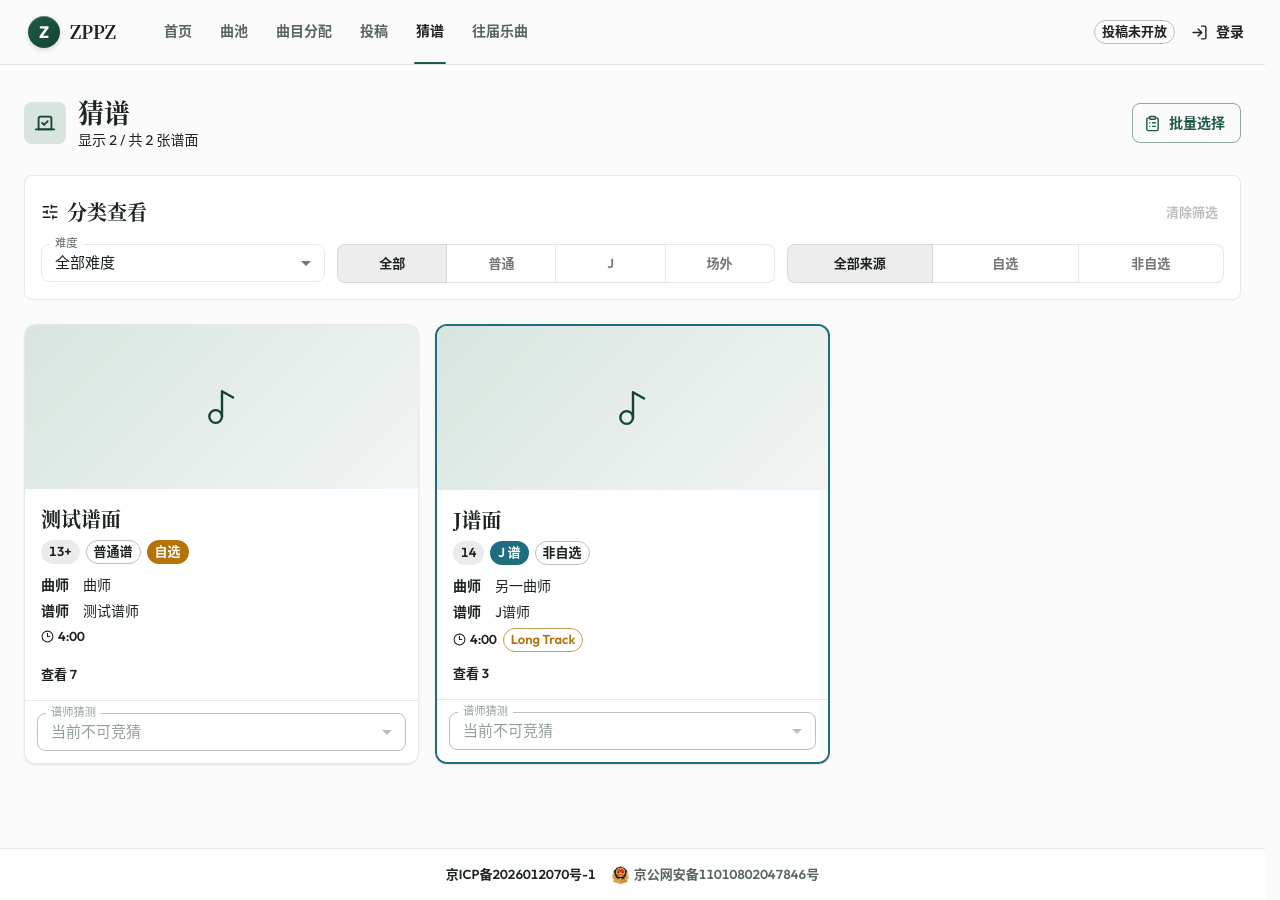
Material application shell › filters guess charts and safely renders public chart metadata
Expected: the heading "测试谱面" is shown, [41,504,121,533]
Expected: the heading "J谱面" is shown, [453,505,502,534]
Click the button "J".
click(611, 263)  # box [556,244,666,283]
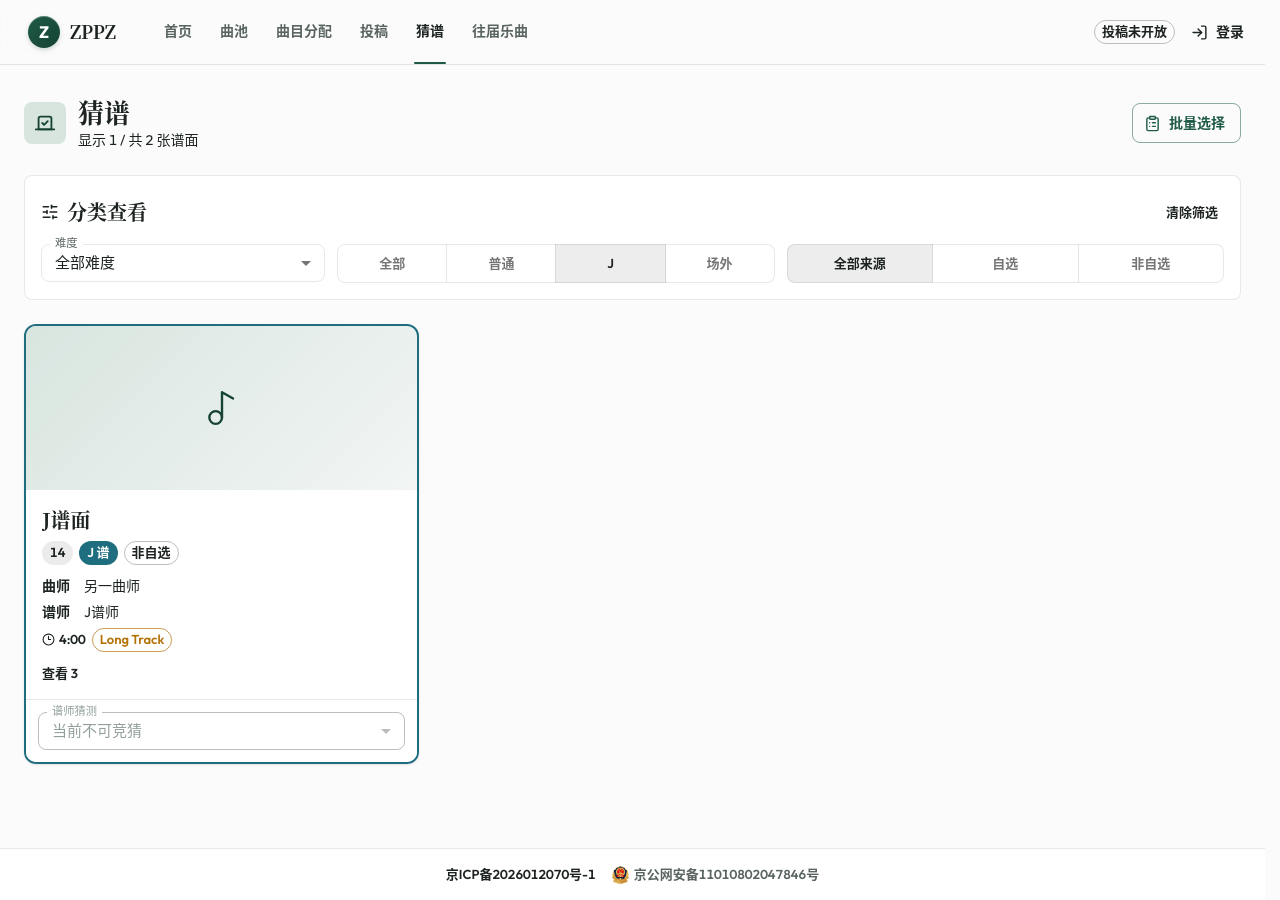
Expected: the heading "J谱面" is shown, [42,505,91,534]
Expected: the button "测试谱面" is gone
Expected: the text "显示 1 / 共 2 张谱面" is shown, [78,128,198,151]
Click the button "自选".
click(1005, 263)  # box [932,244,1079,283]
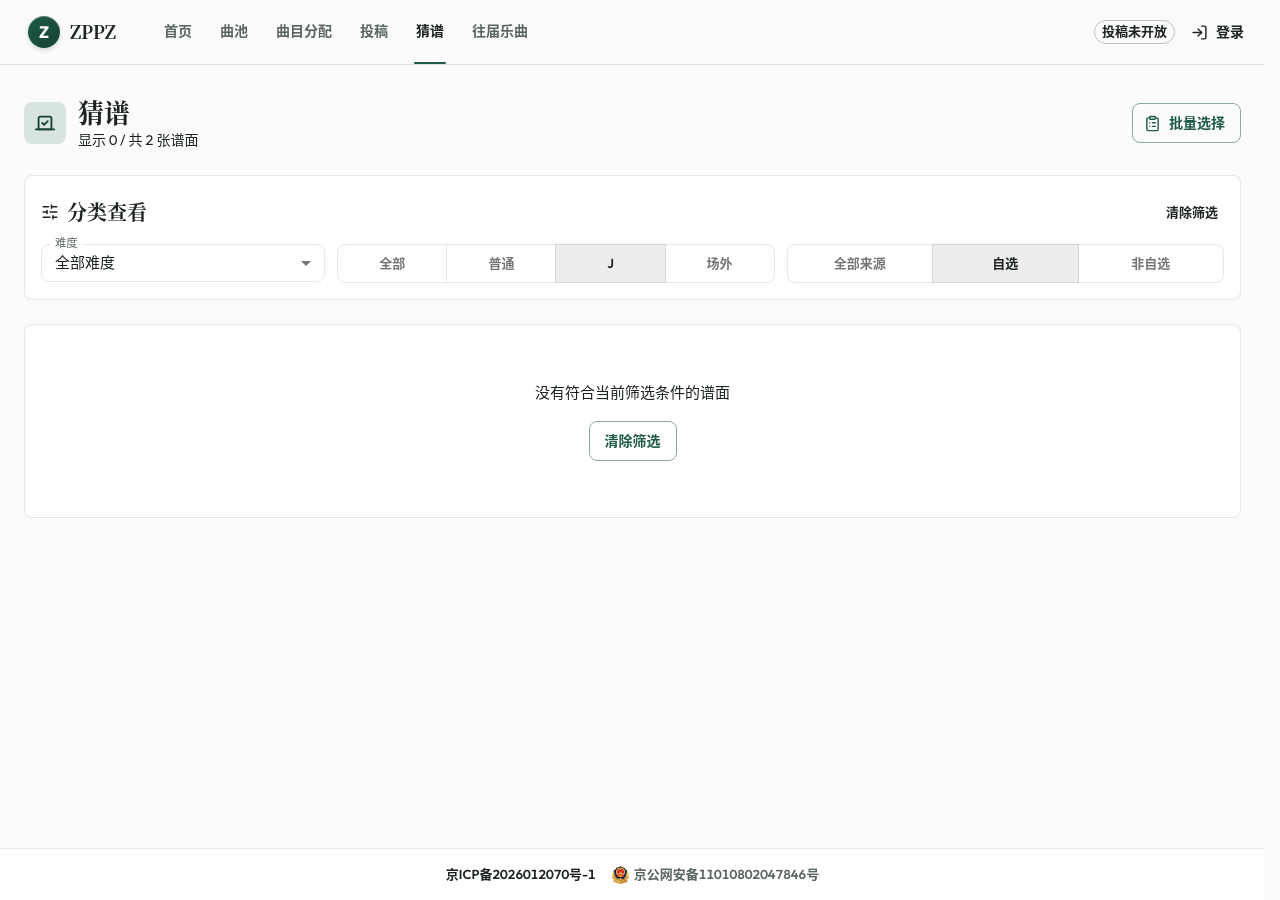
Expected: the text "没有符合当前筛选条件的谱面" is shown, [535,383,730,402]
Click the button "清除筛选" in the row of "分类查看".
click(1192, 212)  # box [1160,192,1224,232]
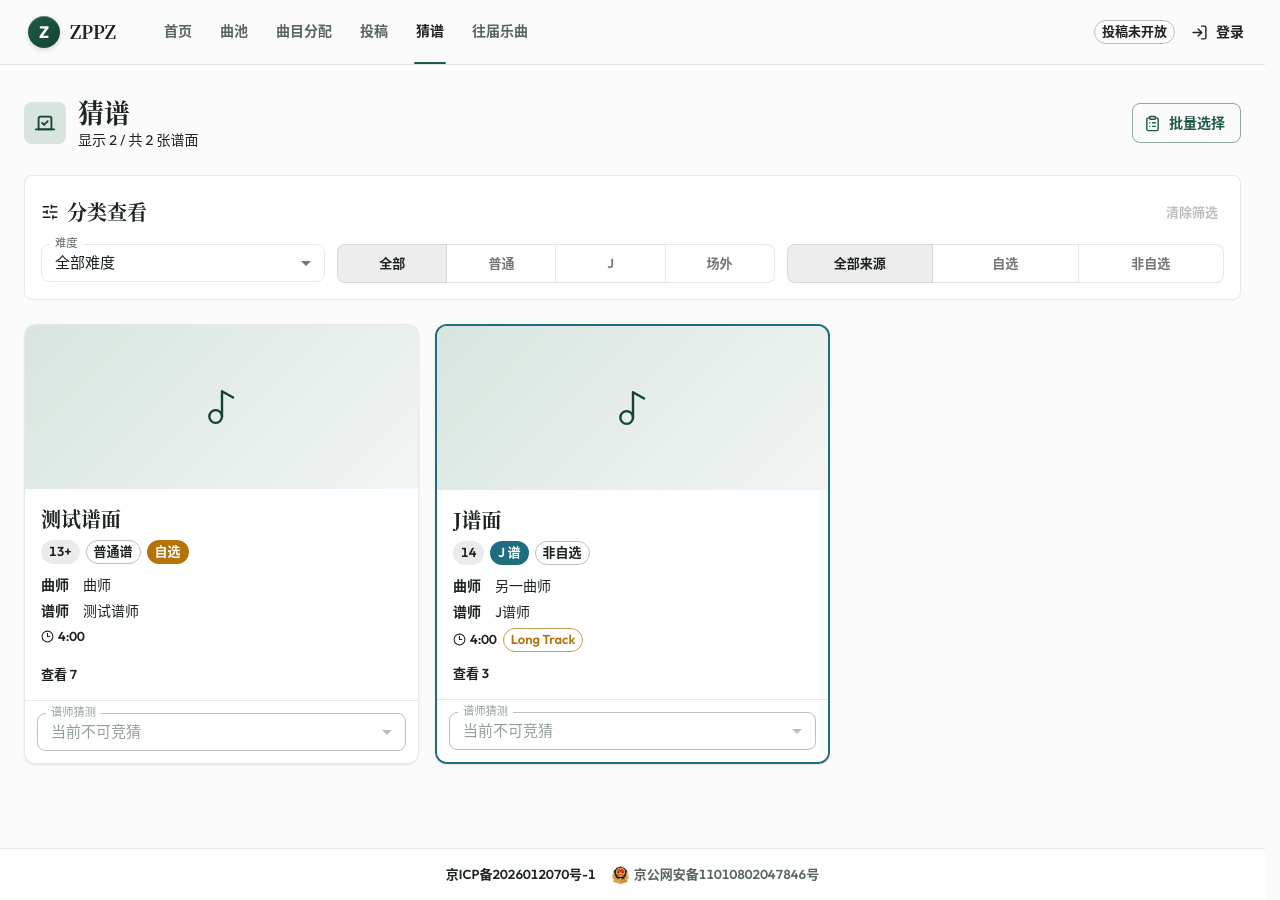
Press the mouse on the dropdown labelled "难度" at (85, 263), box [55,253,115,272]
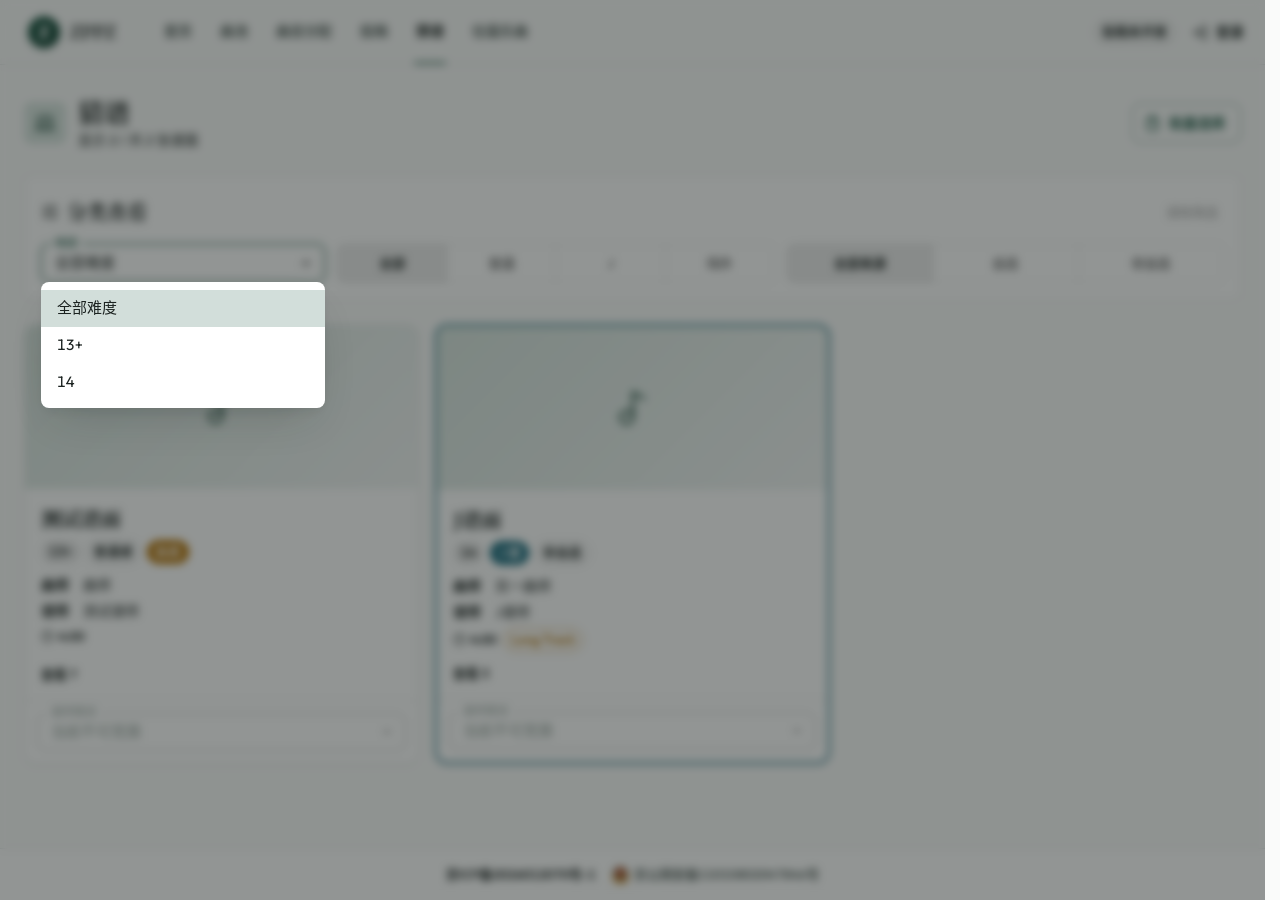
Expected: the options read "全部难度", "13+", "14", in this order
Click the option "13+".
click(70, 344)  # box [57,335,83,354]
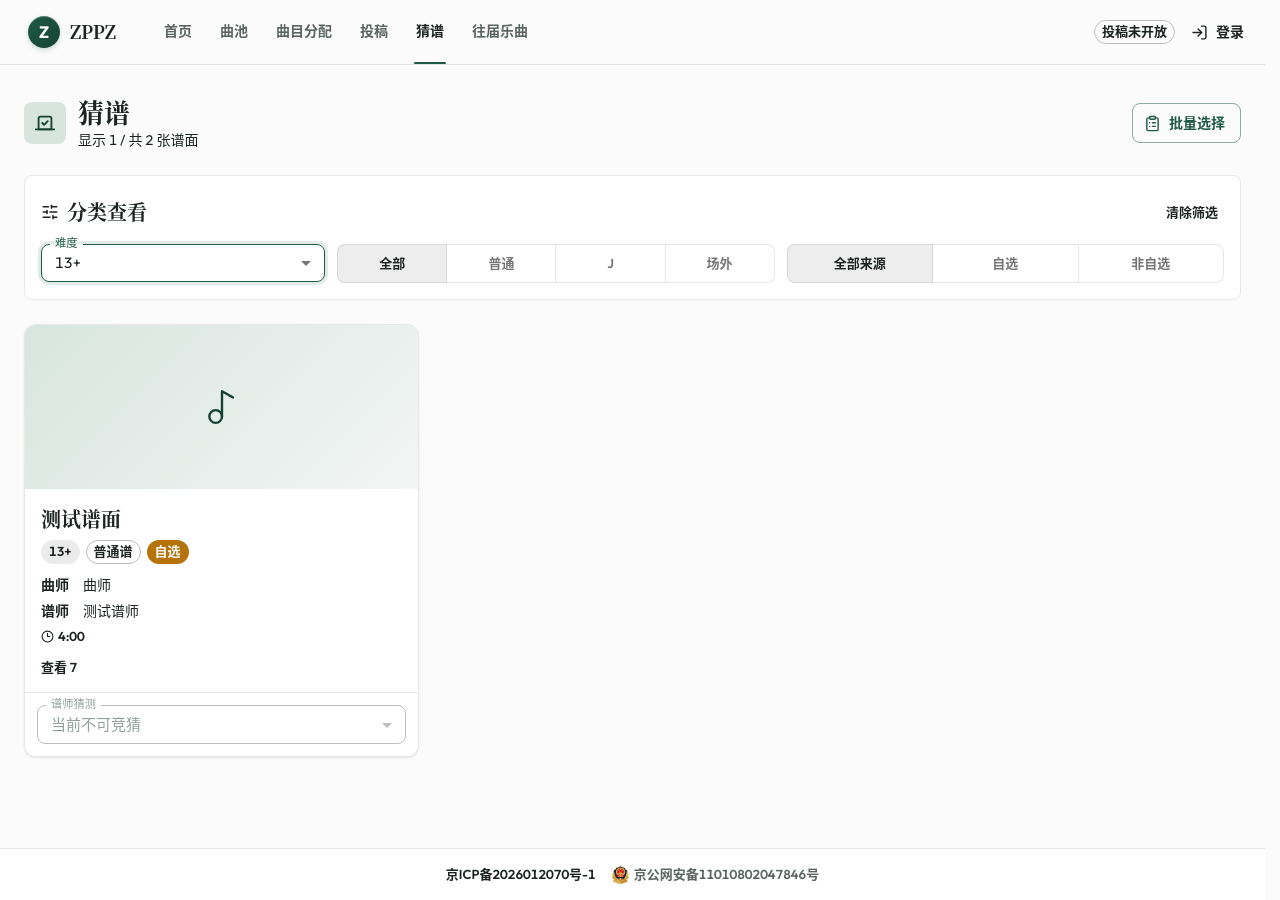
Expected: the heading "测试谱面" is shown, [41,504,121,533]
Expected: the button "J谱面" is gone
